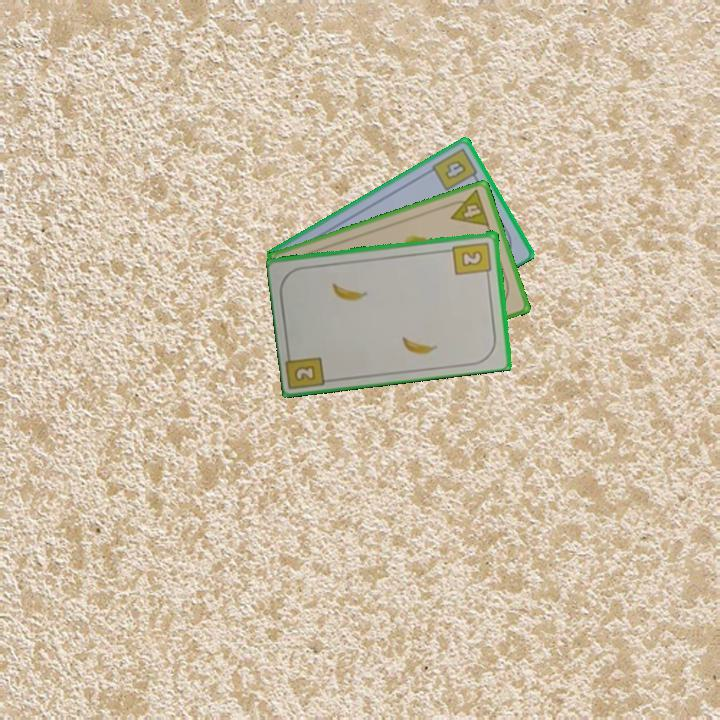2b: (450, 238, 495, 280), (291, 361, 319, 384)
4b: (428, 144, 482, 194)
4p: (443, 186, 492, 230)
